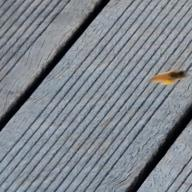Bee: (144, 62, 192, 87)
